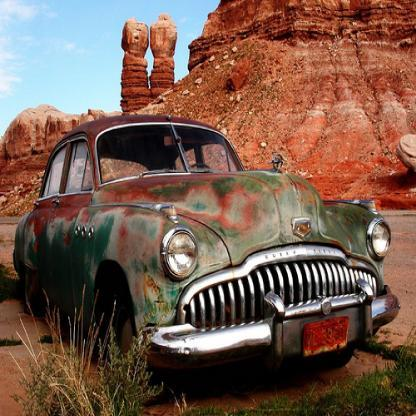car: (11, 111, 402, 376)
